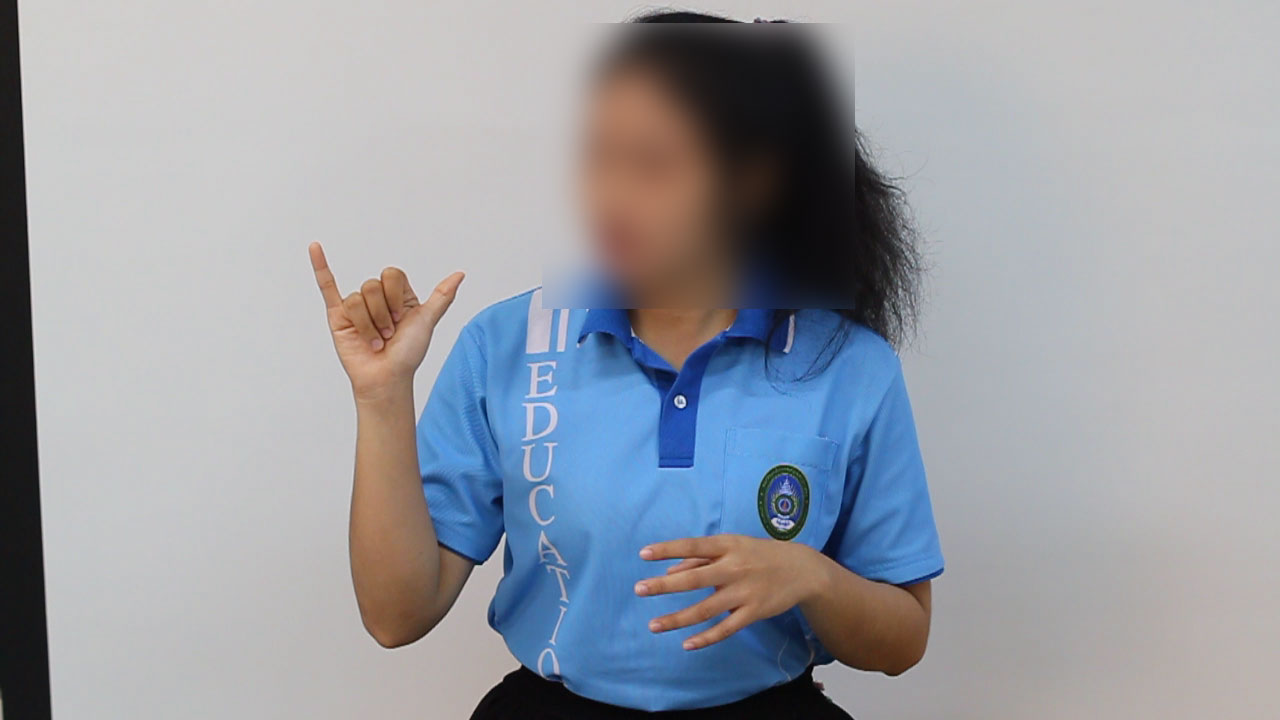yor: (289, 232, 467, 402)
